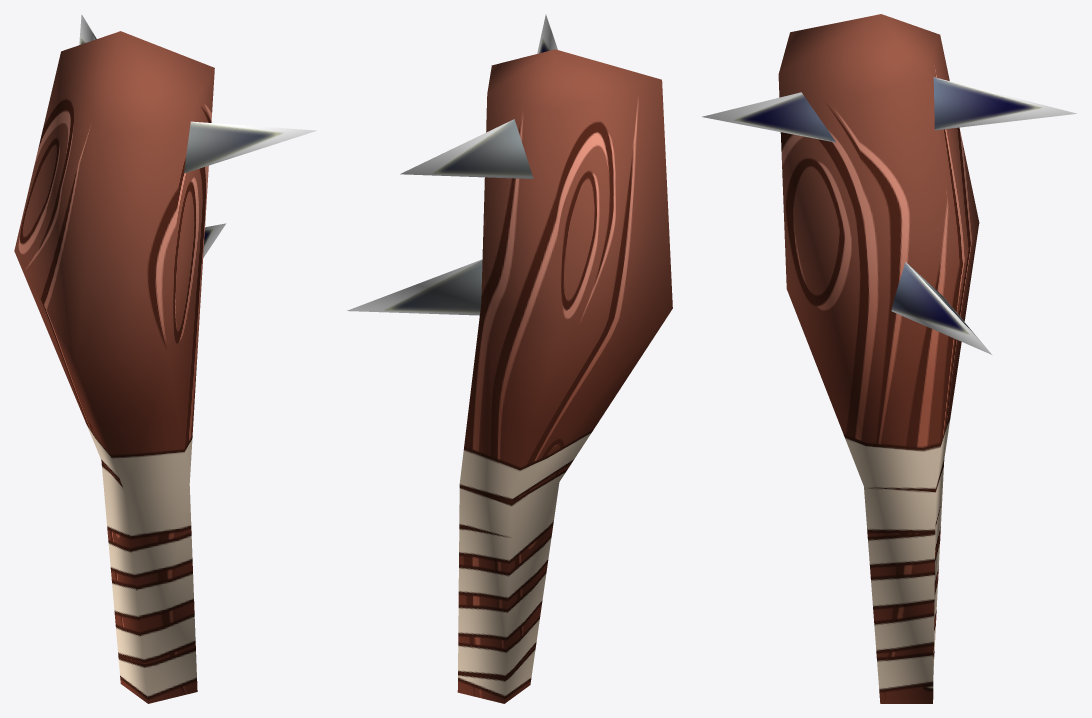
The model's file is weapon_LargeClub_solo.FBX.
3 views of the same model, side by side, from view 1: azimuth 30°, elevation 25°; view 2: azimuth 150°, elevation 25°; view 3: azimuth 270°, elevation 25° (orthographic). The views are drawn at different scales.
Visible parts, largest first — view 1: LargeClub_mesh; view 2: LargeClub_mesh; view 3: LargeClub_mesh.
Part boxes in pixels (x1,y1,x2,y2): LargeClub_mesh: (14, 14, 316, 703); LargeClub_mesh: (347, 14, 672, 703); LargeClub_mesh: (702, 14, 1076, 703).
Size of the model in its own units: 83.97 by 220 by 115.
